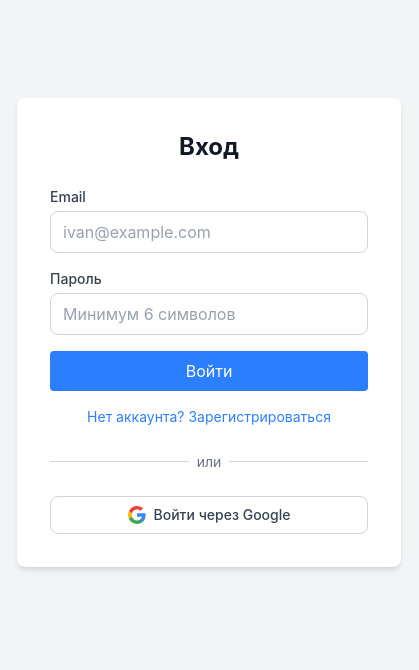
Test case: LoginPage › переключение режима › должен вернуться в режим входа
// В регистрацию
Click the button "Нет аккаунта? Зарегистрироваться" at (209,416), box [50,406,368,426]
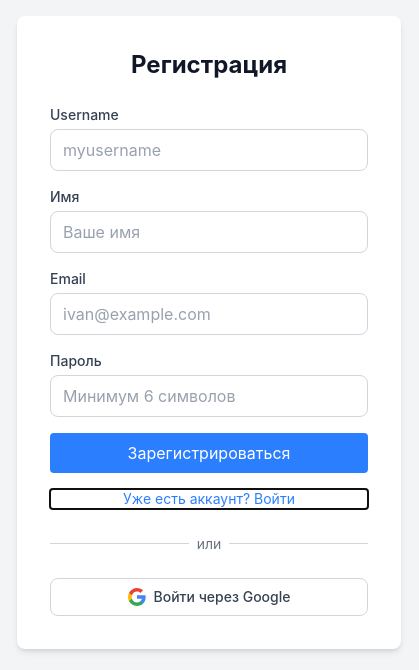
//  Обратно
Click the button "Уже есть аккаунт? Войти" at (209,498), box [50,488,368,508]
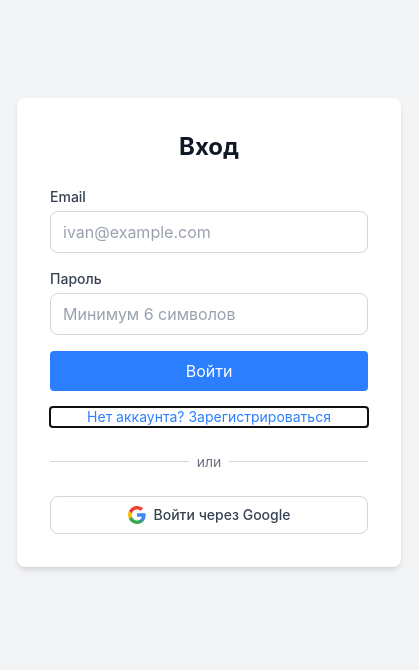
Check: the label labelled "Username" is gone
